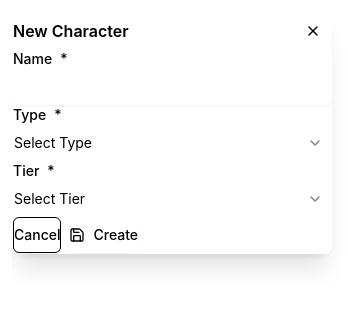
Test case: User creates a character › should show validation errors for missing required fields
This screenshot has width=348, height=336.
Try to save without filling required fields
What coordinates should you click on to do the following:
click the button "Create"
I would click on:
 (104, 235)
Its box is [70, 217, 138, 253].
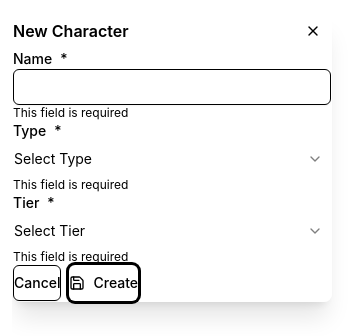
Result: the text "This field is required" below "Name" is shown at [13, 105, 128, 120]
